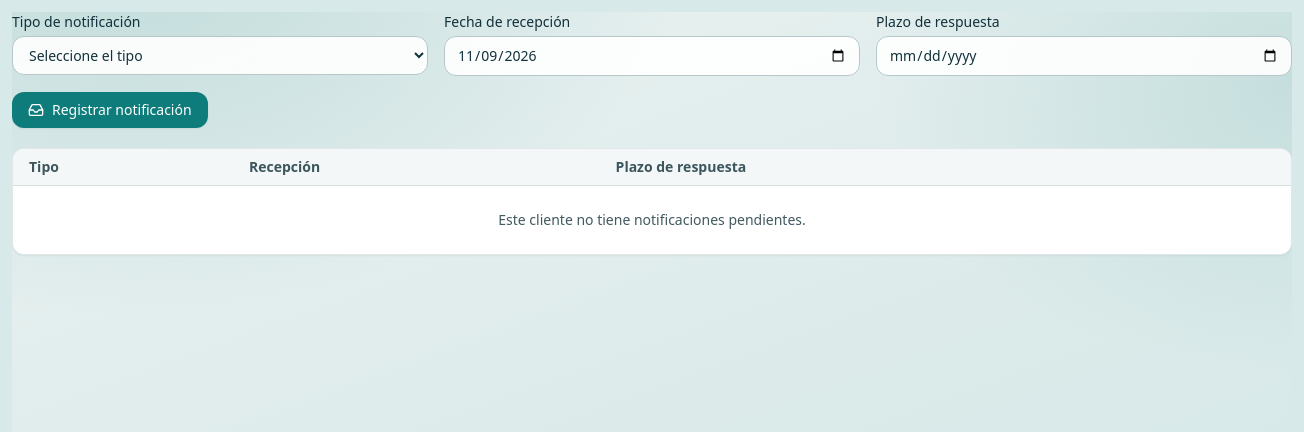
Notificaciones del Buzón SOL en la ficha (HU-18, T65, T66 y T67) › sin tipo no se guarda
Type "2026-11-20" into the date field labelled "Plazo de respuesta". click: (1084, 56)
box: [876,36,1292,76]
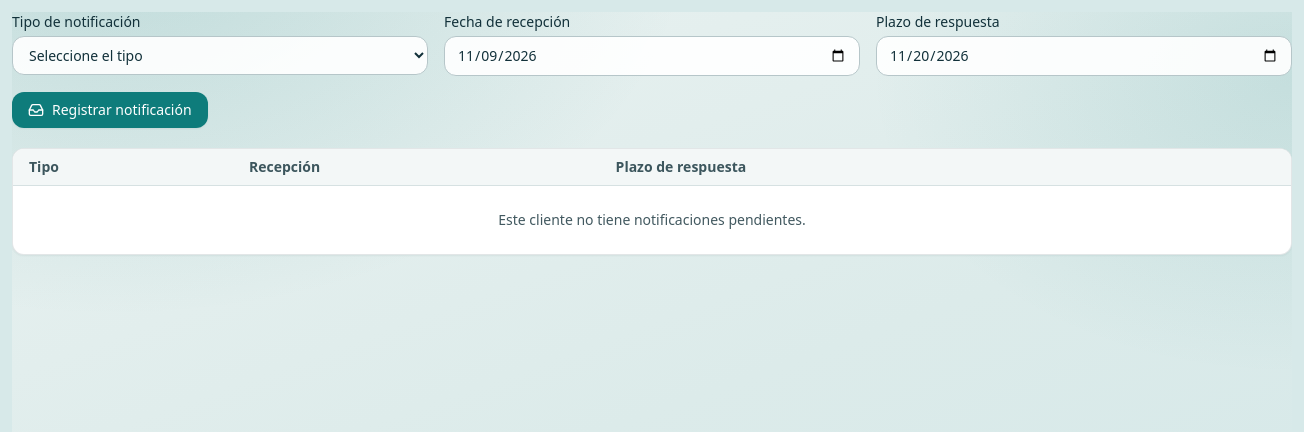
Click the button "Registrar notificación". click: (110, 110)
box: [12,92,208,128]
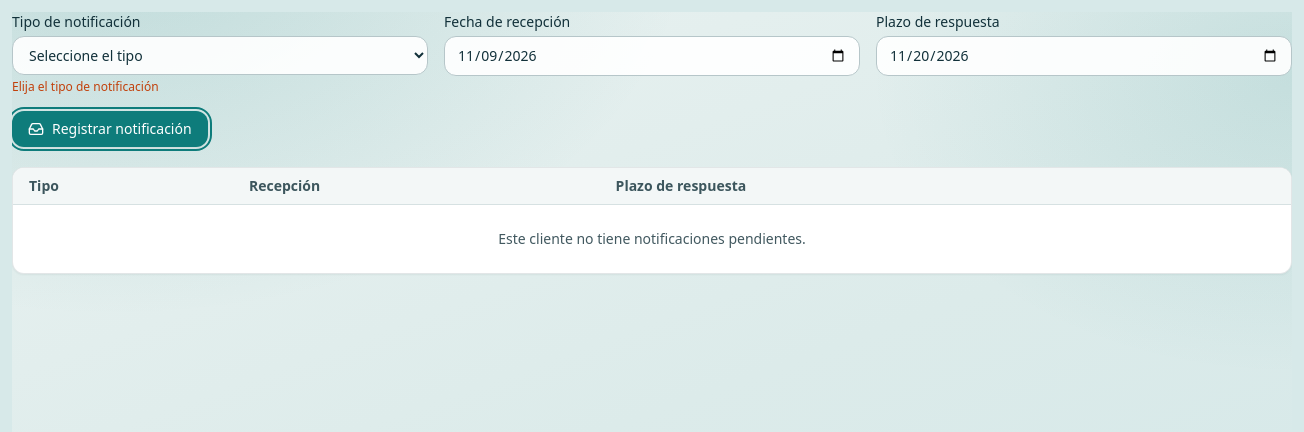
Expected: the message reads "Elija el tipo de notificación", [12,78,159,95]
